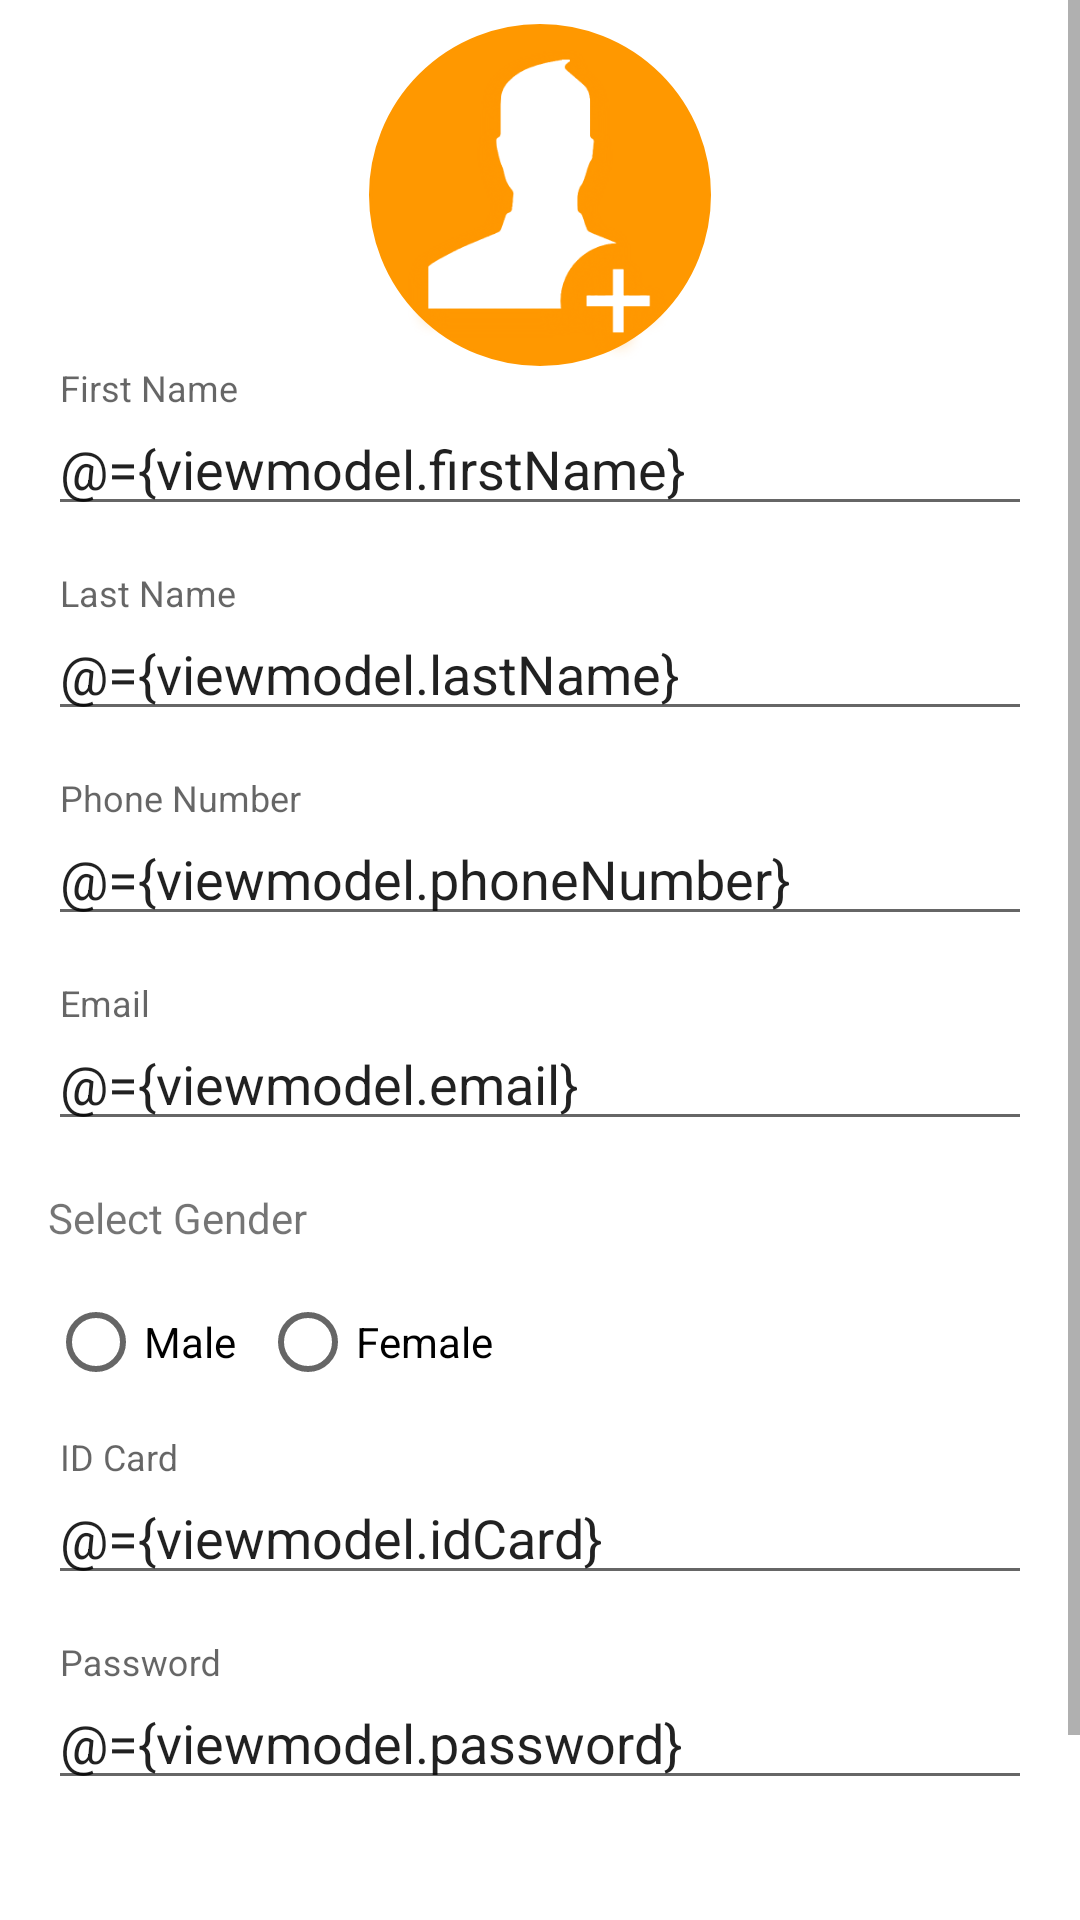

Locate icon controls on the screen. Image size 1080 x 1920, boxes as bbox=[x1, y1, x2, y2].
photo: bbox=[369, 24, 711, 366]
